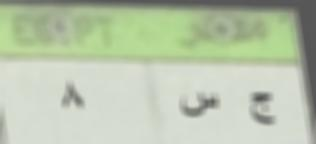8: (57, 83, 90, 113)
jeem: (246, 83, 278, 132)
seen: (172, 90, 225, 123)
